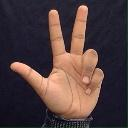hand: (9, 4, 104, 120)
